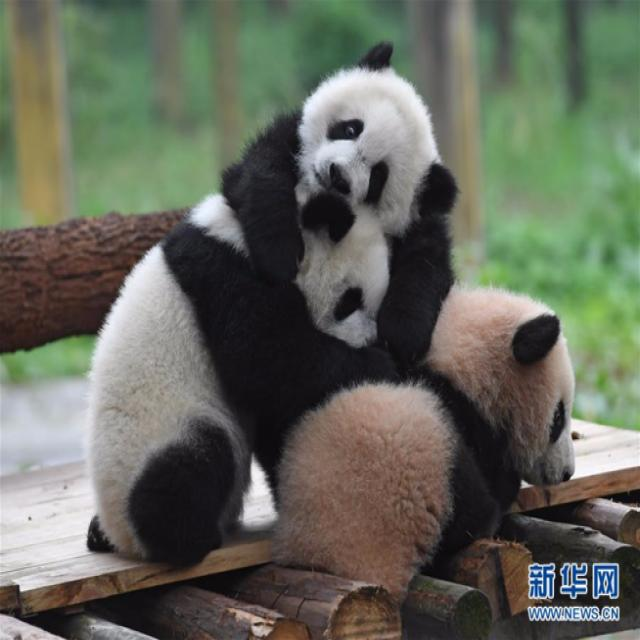panda: (85, 28, 581, 602)
